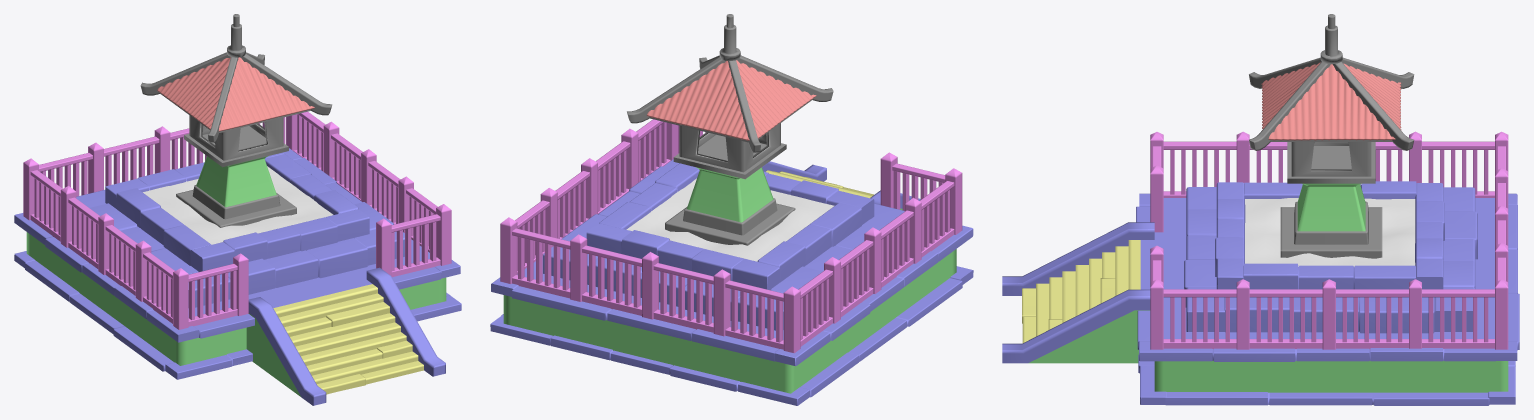
File: SM_ENV_LKNVLD_Building_D.gltf
3 renders of one model, left to right at view 1: azimuth 30°, elevation 25°; view 2: azimuth 150°, elevation 25°; view 3: azimuth 270°, elevation 25°, orthographic. The views are drawn at different scales.
Parts seen in each view (by area): view 1: SM_ENV_LKNVLD_Building_D; view 2: SM_ENV_LKNVLD_Building_D; view 3: SM_ENV_LKNVLD_Building_D.
Boxes of the visible parts, box(x1,y1,x2,y2) form: SM_ENV_LKNVLD_Building_D: box(14, 14, 461, 405); SM_ENV_LKNVLD_Building_D: box(490, 14, 973, 405); SM_ENV_LKNVLD_Building_D: box(1002, 14, 1519, 405).
Size of the model in its own units: 8.68 by 7.76 by 11.71.
